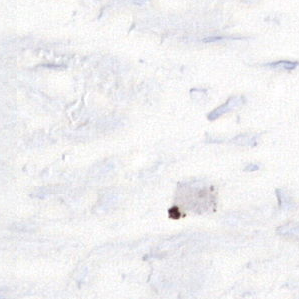Lymphocyte: (166, 205, 185, 221)
